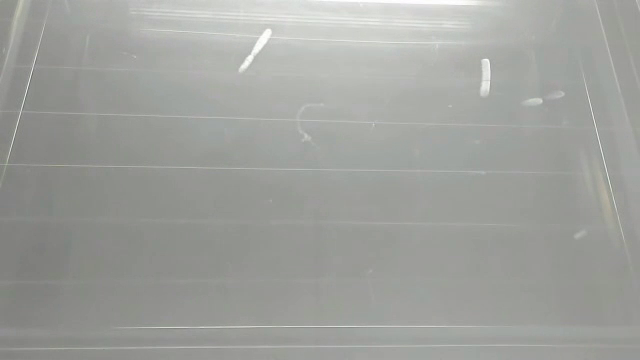alpha: (234, 26, 277, 76), (517, 87, 568, 110), (475, 53, 497, 105), (568, 227, 597, 243)
